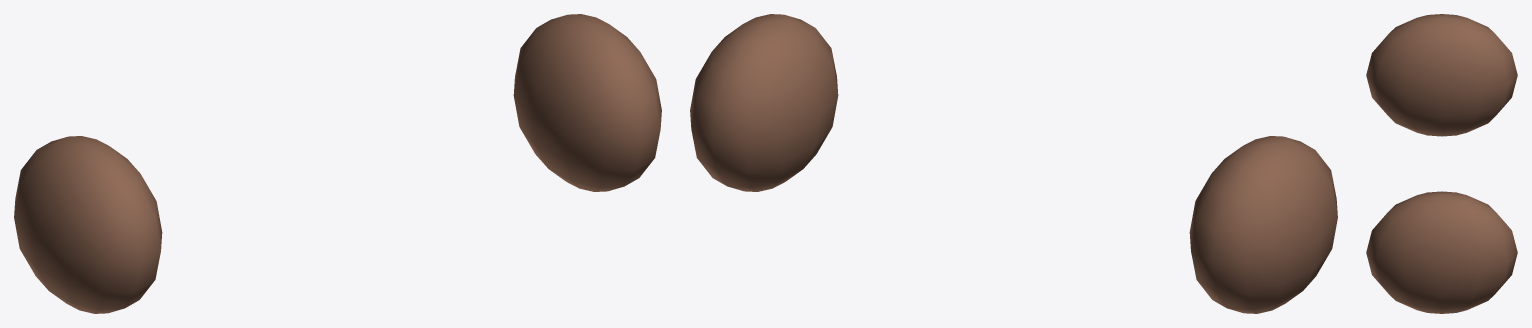
Rendered from Hair_Sides.fbx.
The picture shows the model from 3 angles, left to right: view 1: azimuth 30°, elevation 25°; view 2: azimuth 150°, elevation 25°; view 3: azimuth 270°, elevation 25°; orthographic projection. The views are drawn at different scales.
Visible parts, largest first — view 1: Hair_Tuft, Hair_Tuft.001; view 2: Hair_Tuft, Hair_Tuft.001; view 3: Hair_Tuft, Hair_Tuft.001.
Part boxes in pixels (x1,y1,x2,y2): Hair_Tuft: [513, 14, 661, 191]; Hair_Tuft.001: [14, 136, 162, 313]; Hair_Tuft: [690, 14, 838, 191]; Hair_Tuft.001: [1189, 136, 1337, 313]; Hair_Tuft: [1366, 191, 1517, 313]; Hair_Tuft.001: [1366, 14, 1517, 136].
Bounding box in the file's own units: 88 × 22 × 26.
